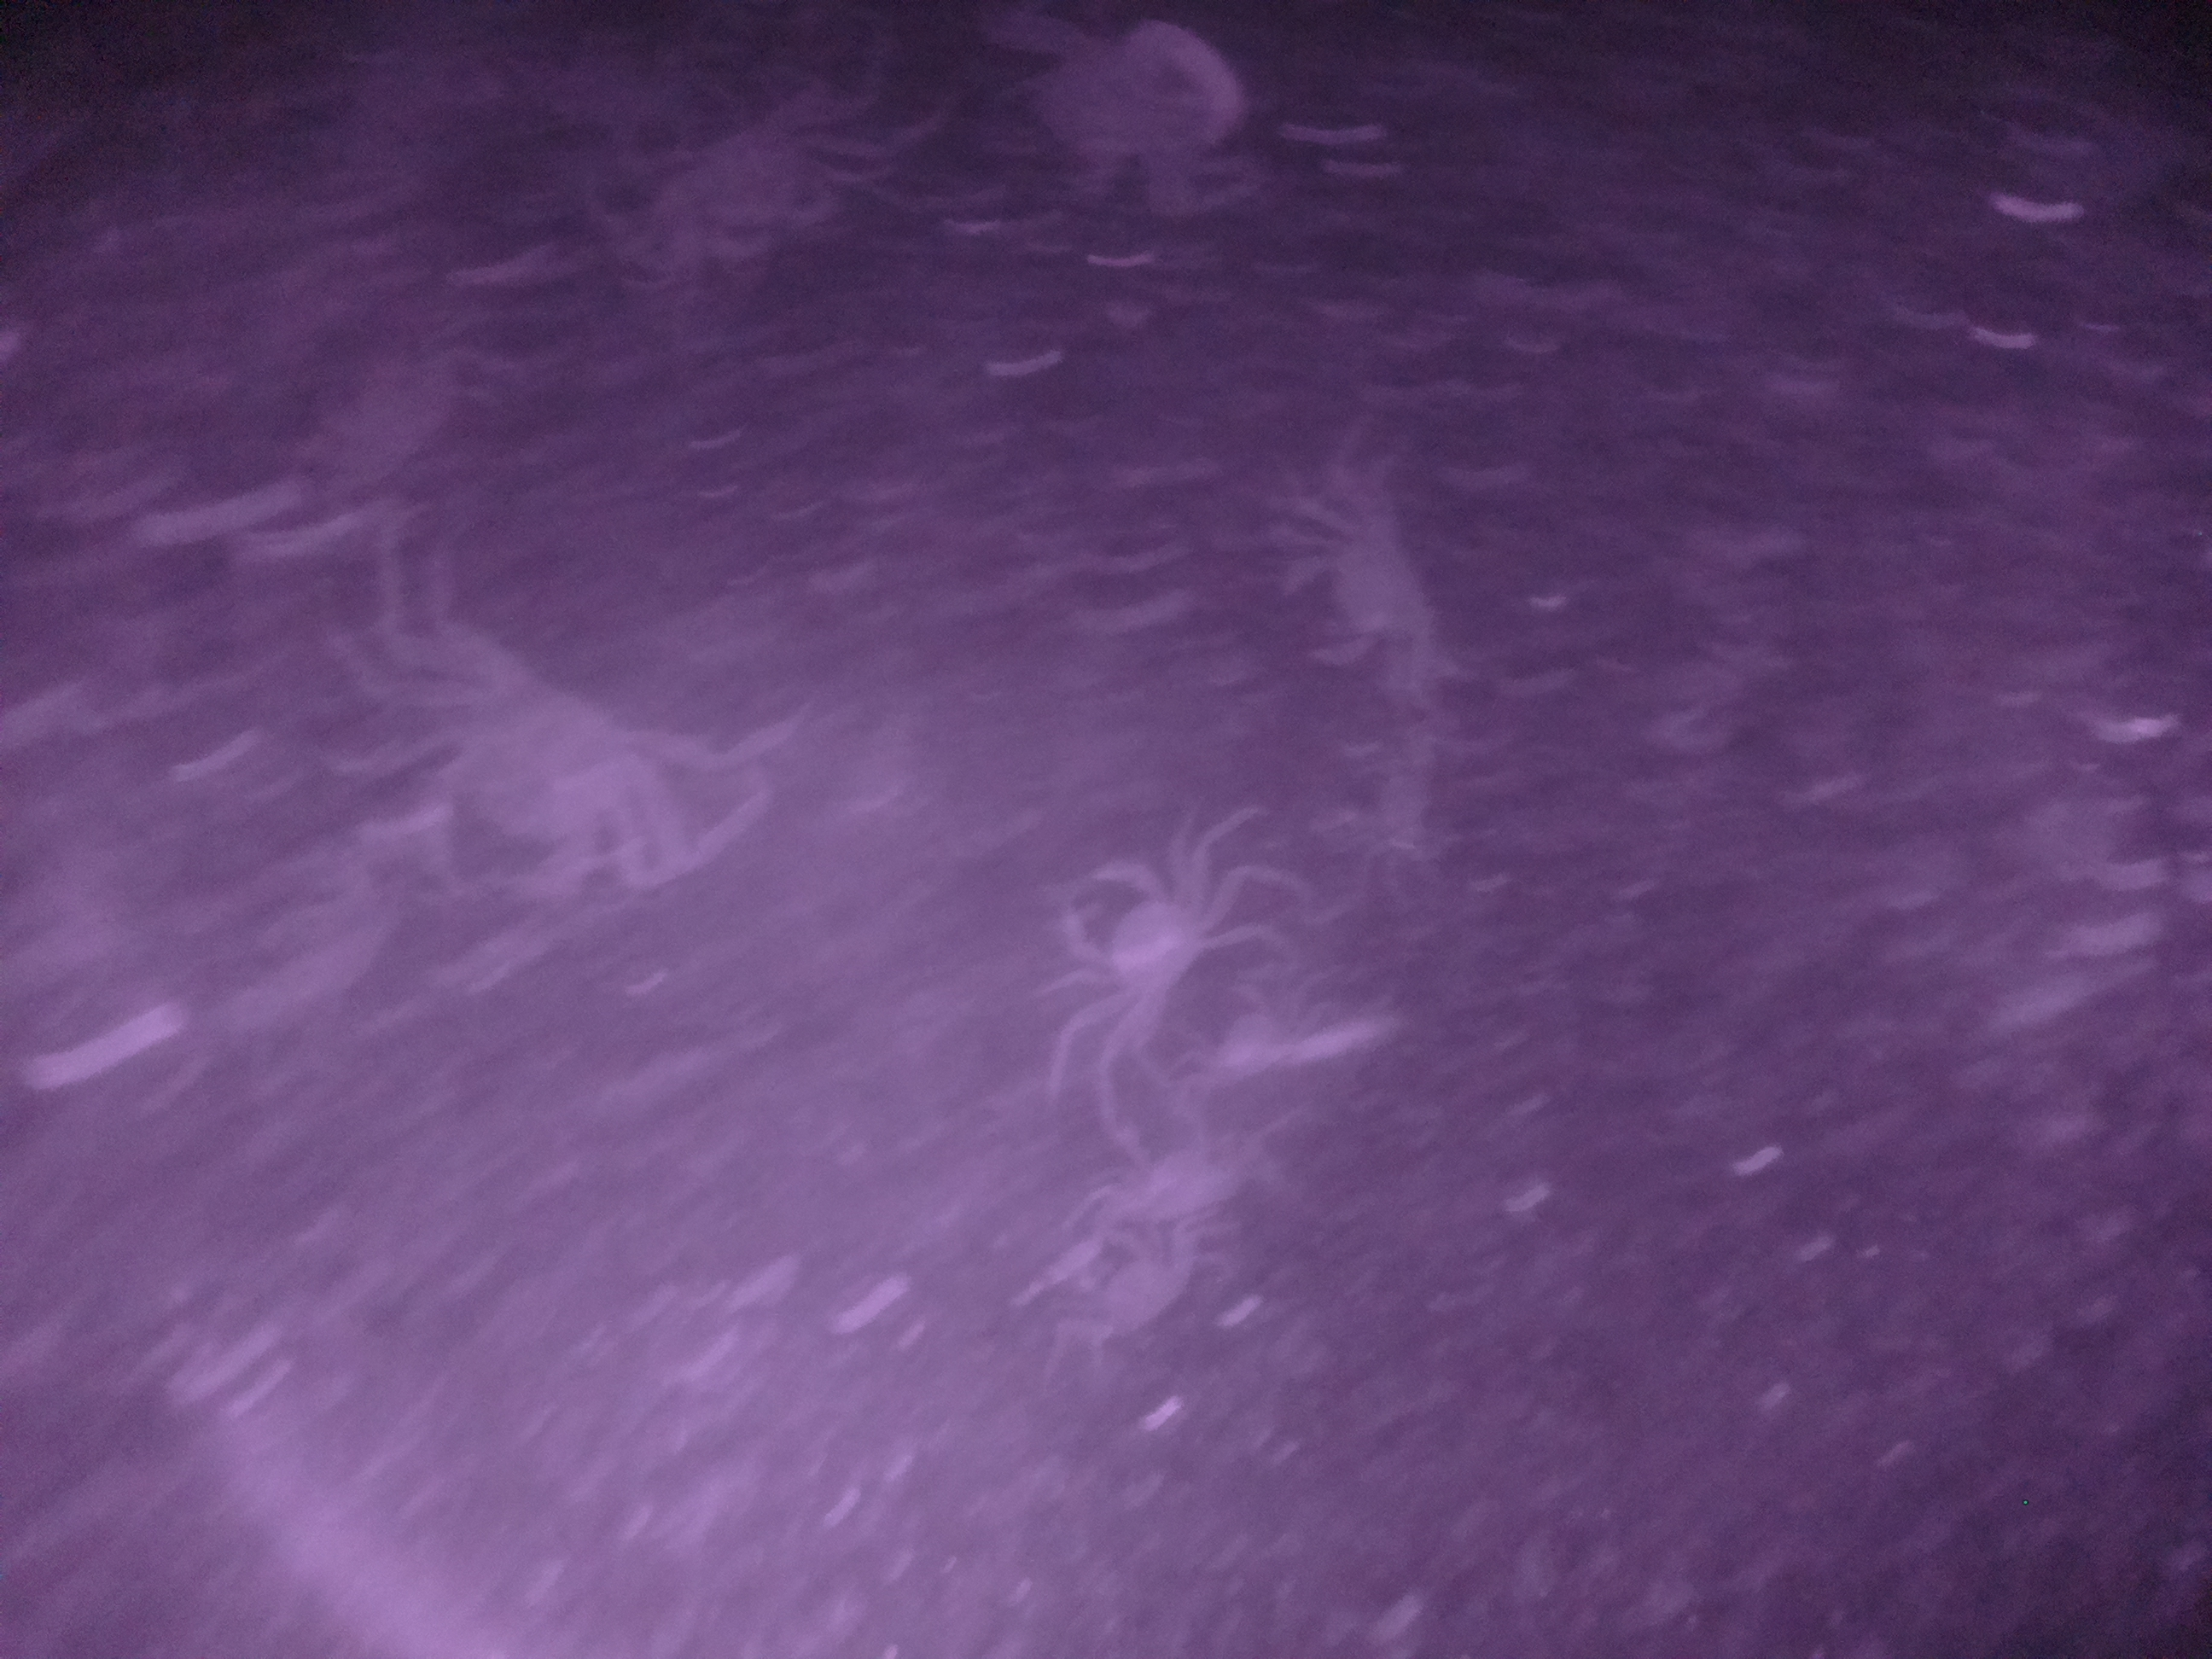Crab: (1043, 824, 1226, 1044)
